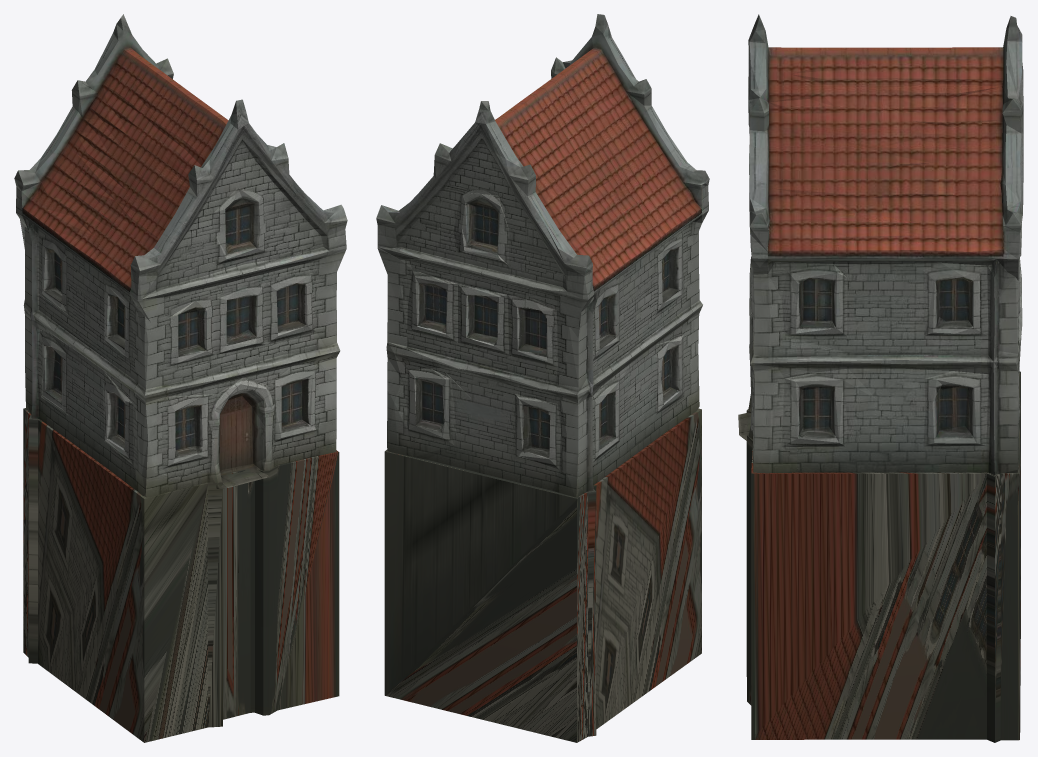
Rendered from townhouse_a.glb.
The picture shows the model from 3 angles, left to right: view 1: azimuth 30°, elevation 25°; view 2: azimuth 150°, elevation 25°; view 3: azimuth 270°, elevation 25°; orthographic projection. The views are drawn at different scales.
Visible parts, largest first — view 1: townhouse_a_export; view 2: townhouse_a_export; view 3: townhouse_a_export.
Part boxes in pixels (x1,y1,x2,y2): townhouse_a_export: [14, 14, 347, 742]; townhouse_a_export: [376, 14, 709, 742]; townhouse_a_export: [738, 14, 1023, 742].
Size of the model in its own units: 16.8 by 46.81 by 18.
Materials: 2 (2 with a texture image).
